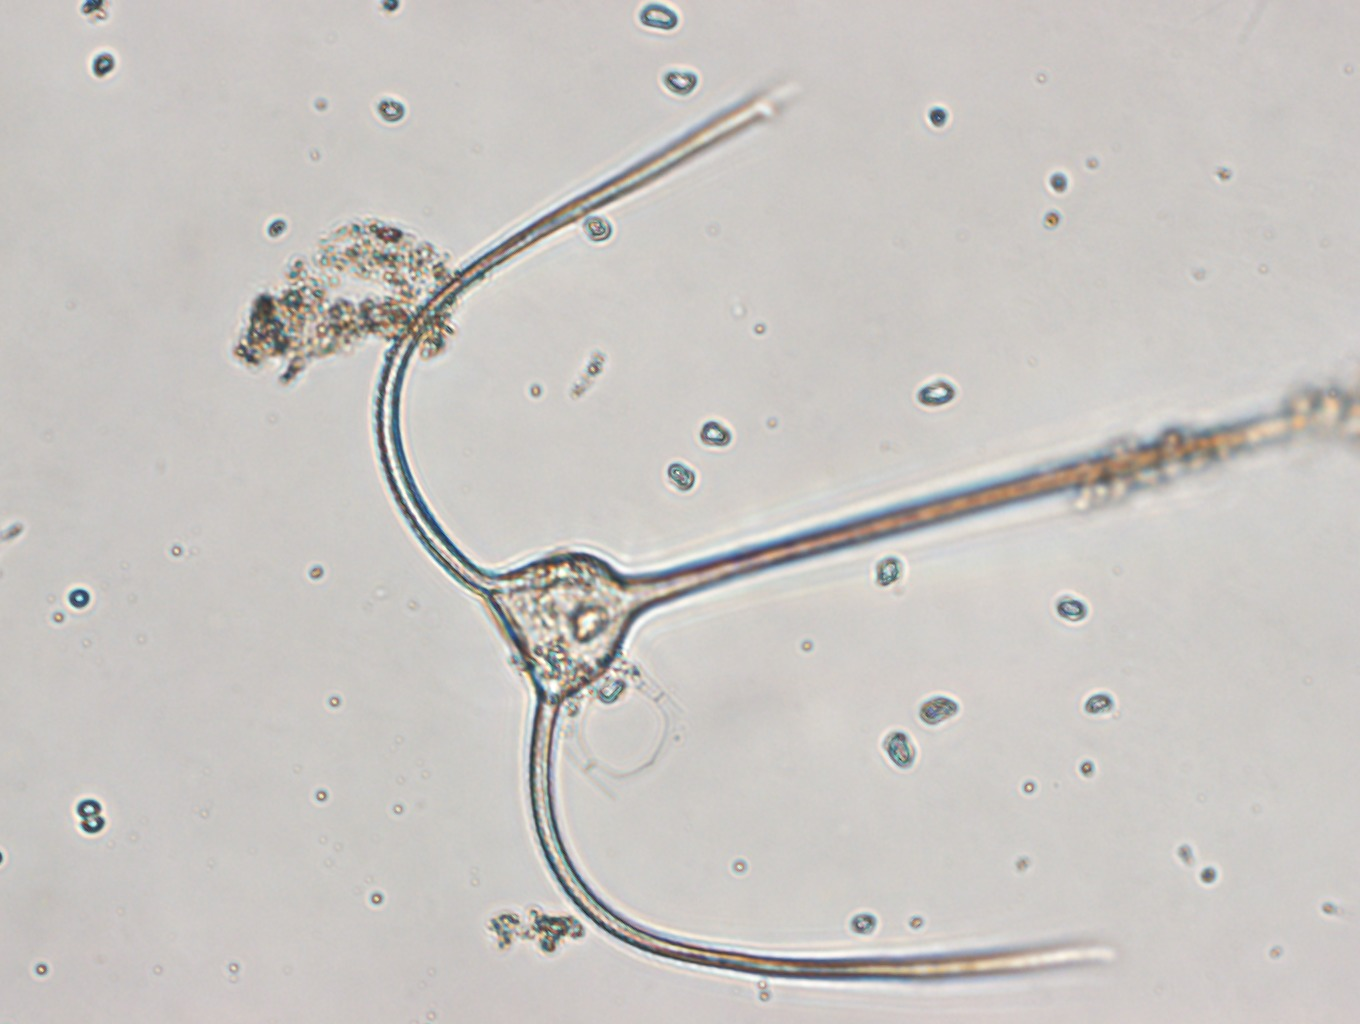ceratium trichoceros: (370, 82, 1360, 980)
